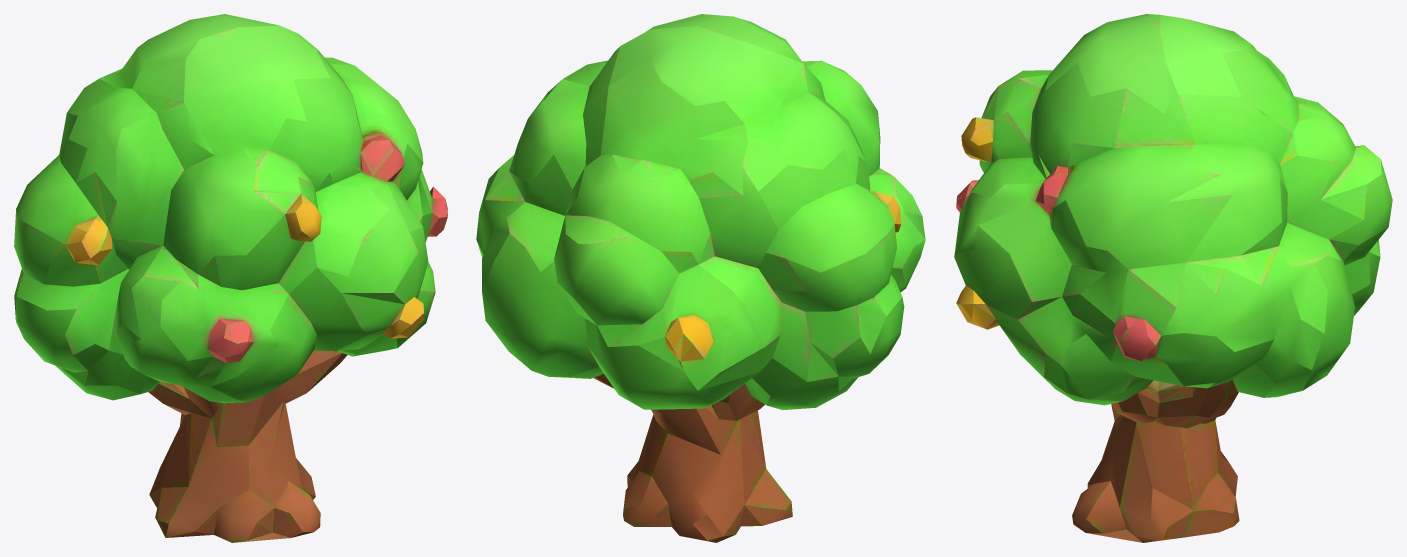
Rendered from tree.glb.
3 renders of one model, left to right at view 1: azimuth 30°, elevation 25°; view 2: azimuth 150°, elevation 25°; view 3: azimuth 270°, elevation 25°, orthographic.
Size of the model in its own units: 1.66 by 1.89 by 1.56.
1 material, 1 textured.
